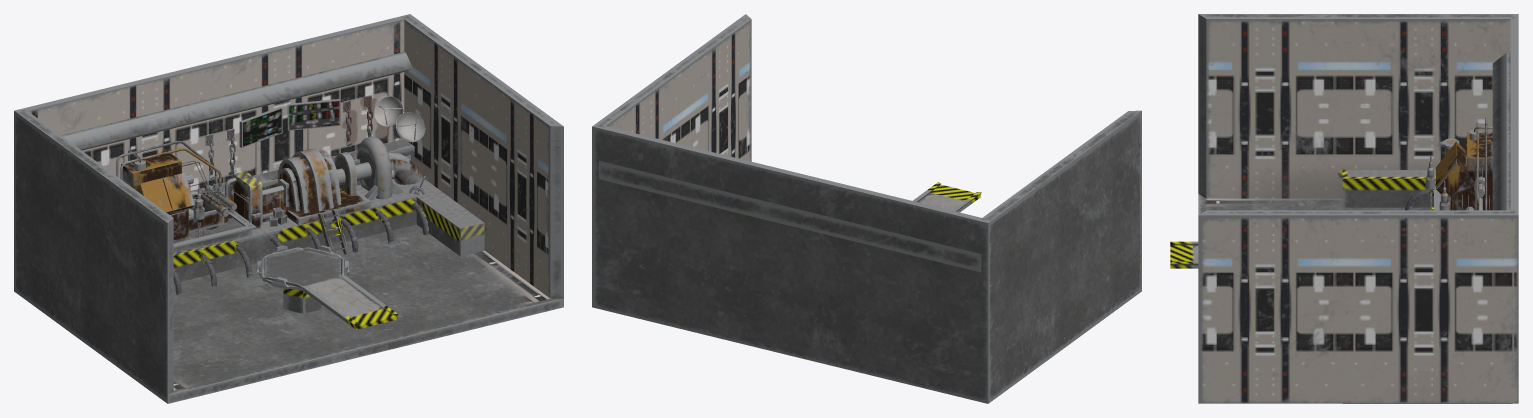
File: garage.fbx
3 views of the same model, side by side, from view 1: azimuth 30°, elevation 25°; view 2: azimuth 150°, elevation 25°; view 3: azimuth 270°, elevation 25° (orthographic). The views are drawn at different scales.
Parts seen in each view (by area): view 1: polySurface1; view 2: polySurface1; view 3: polySurface1.
Part boxes in pixels (bbox=[...]): polySurface1: bbox=[14, 14, 563, 403]; polySurface1: bbox=[592, 14, 1141, 403]; polySurface1: bbox=[1170, 14, 1518, 403].
Size of the model in its own units: 561 by 246 by 410.
